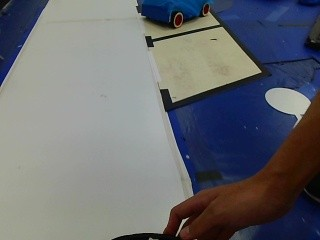car: (137, 0, 214, 31)
